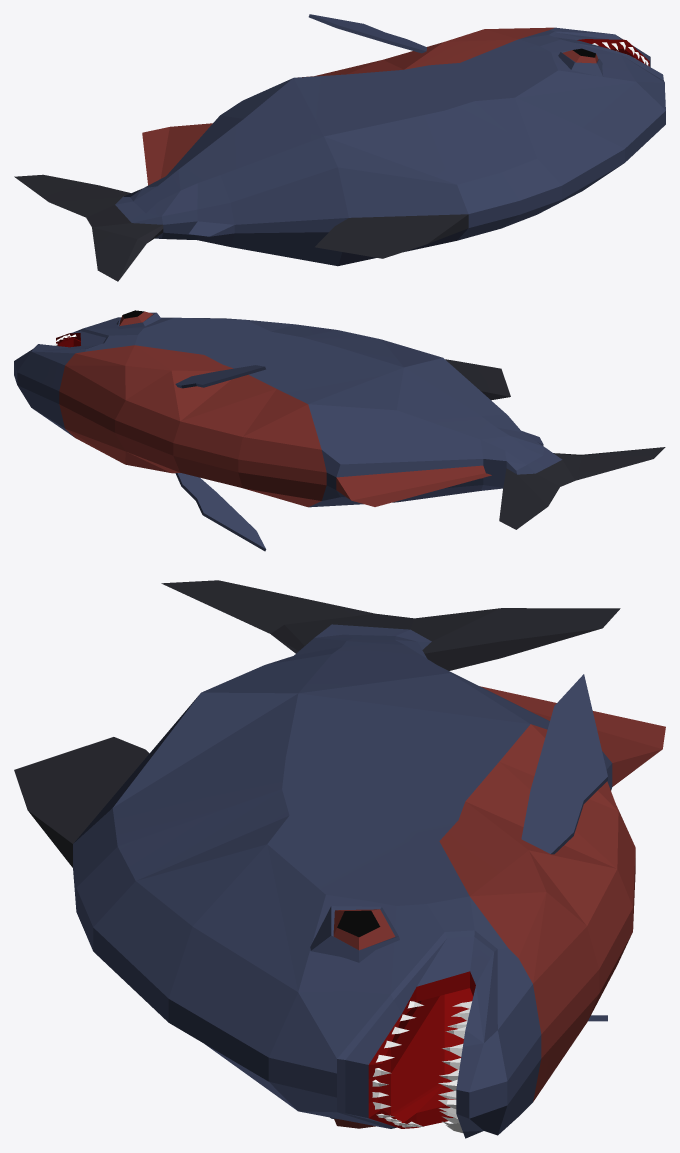
The model's file is GiantPiranha.glb.
3 renders of one model, top to bottom at view 1: azimuth 30°, elevation 25°; view 2: azimuth 150°, elevation 25°; view 3: azimuth 270°, elevation 25°, orthographic. The views are drawn at different scales.
Visible parts, largest first — view 1: GiantPiranha; view 2: GiantPiranha; view 3: GiantPiranha.
Boxes of the visible parts, x1=… form: GiantPiranha: x1=14, y1=14, x2=665, y2=281; GiantPiranha: x1=14, y1=310, x2=665, y2=551; GiantPiranha: x1=14, y1=580, x2=665, y2=1138.
Bounding box in the file's own units: 1.5 × 0.4614 × 0.7849.
Materials: 1 (1 with a texture image).
